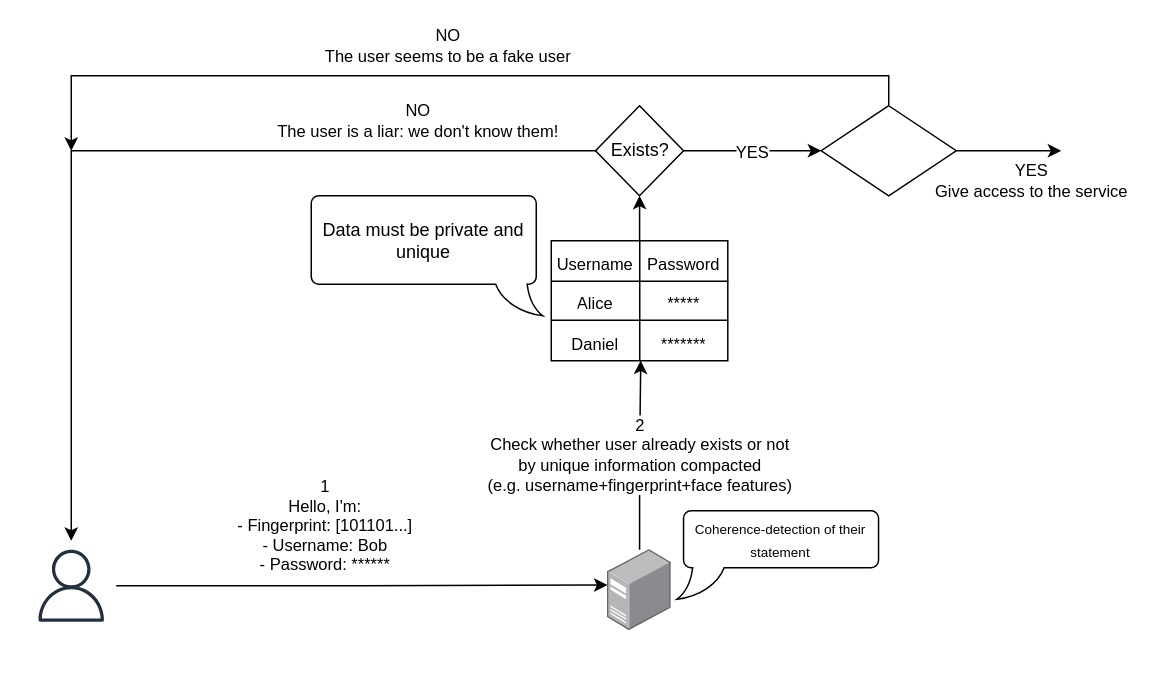
Some shapes in this 1154 by 687 pixel diagram are drawn without their labels. Here are the shapes that lost their labels. From the top down, the box of each, then its label:
(820, 104, 956, 196): Is a real human?
(25, 539, 116, 631): User
